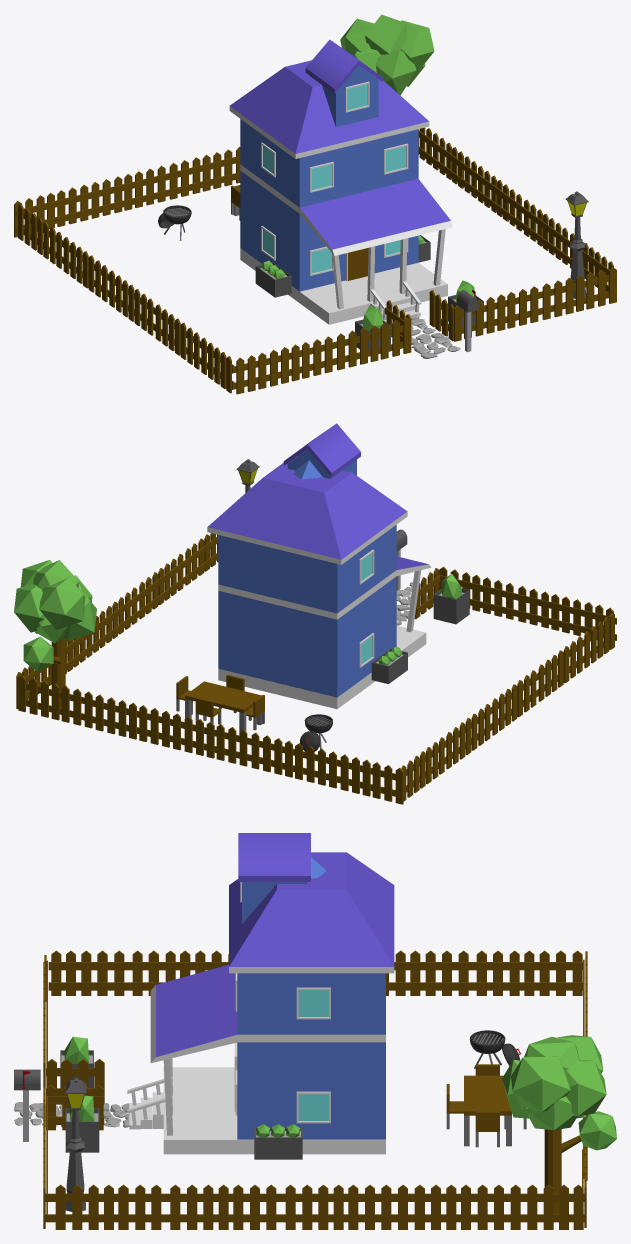
3 renders of one model, top to bottom at view 1: azimuth 30°, elevation 25°; view 2: azimuth 150°, elevation 25°; view 3: azimuth 270°, elevation 25°, orthographic. The views are drawn at different scales.
Parts seen in each view (by area): view 1: ust; view 2: ust; view 3: ust.
Boxes of the visible parts, box(x1,y1,x2,y2) form: ust: box(14, 14, 616, 394); ust: box(14, 423, 616, 804); ust: box(14, 833, 616, 1229).
Bounding box in the file's own units: 25.73 × 14.48 × 27.03.
